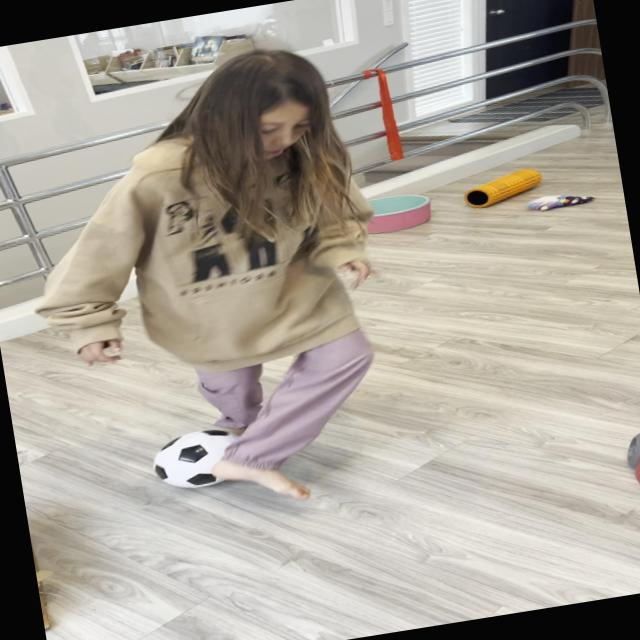Soccer Ball: (148, 423, 258, 493)
